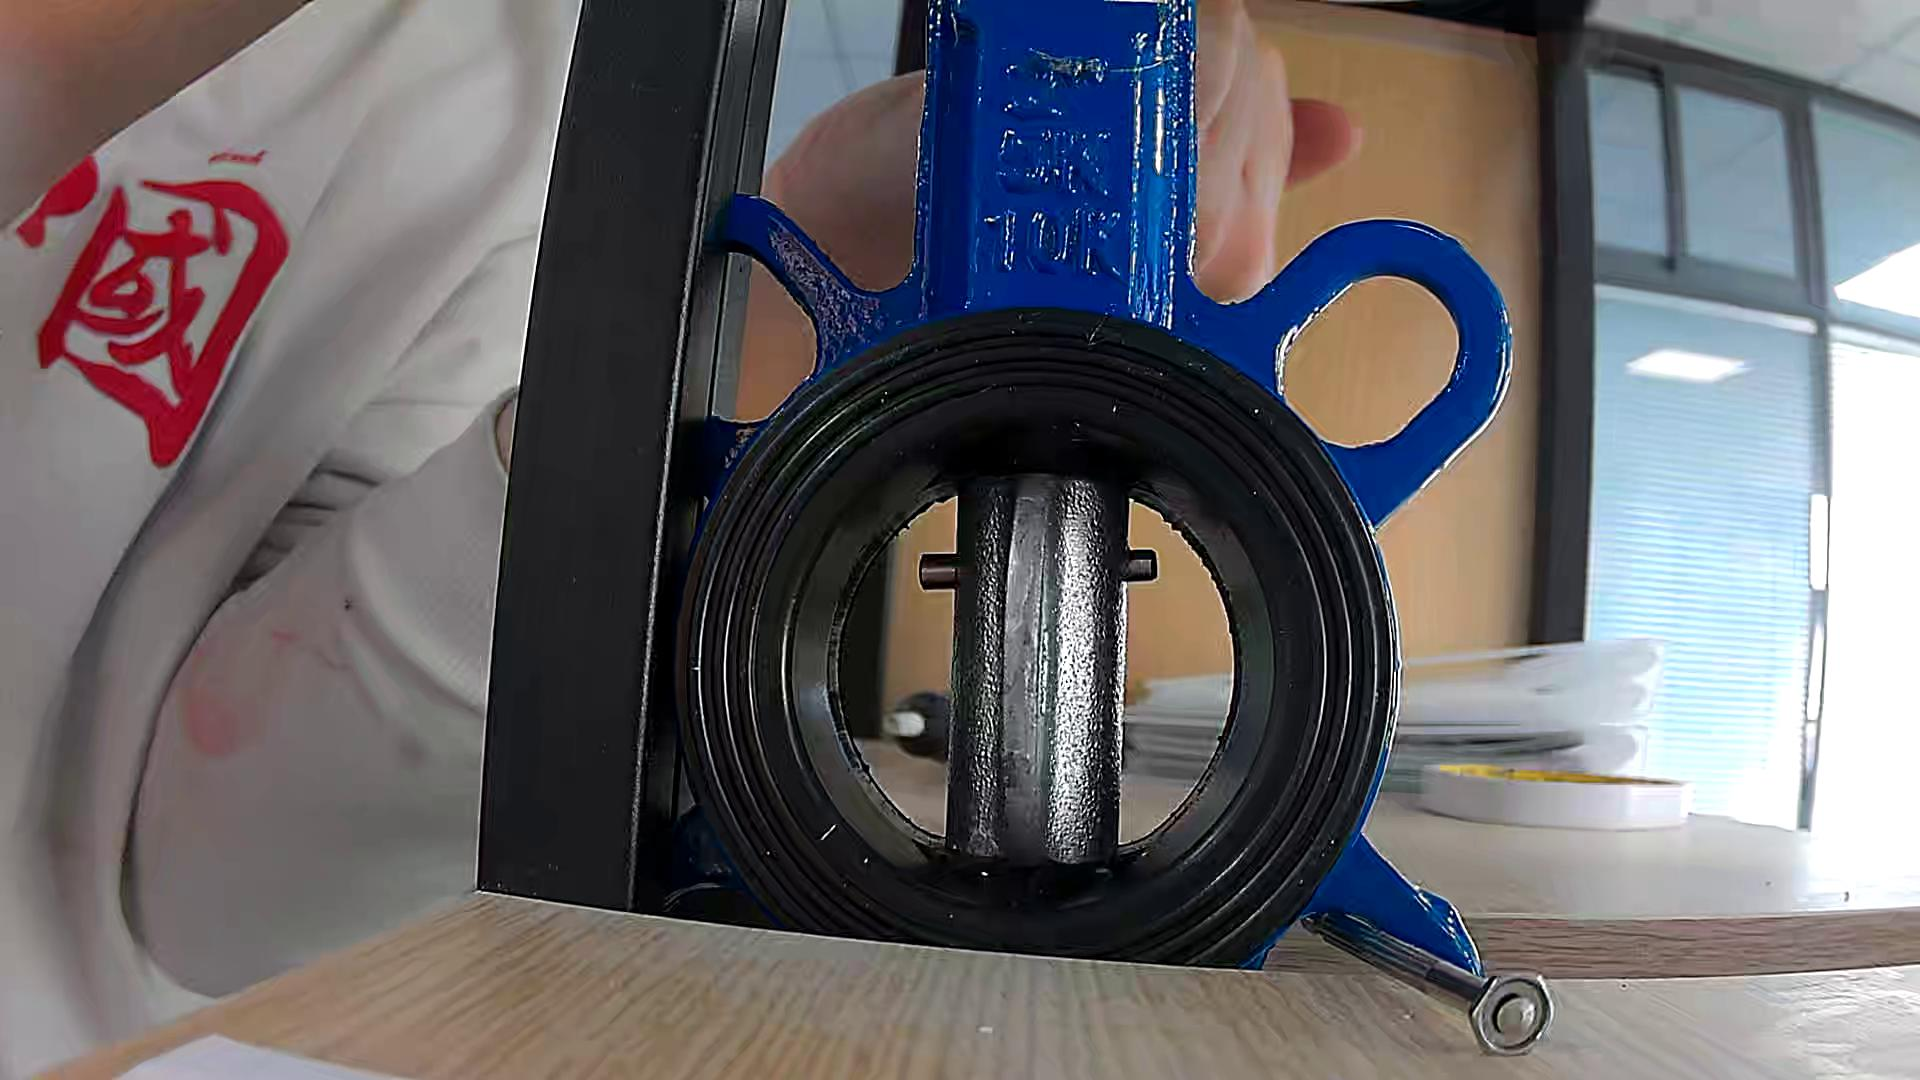valve: (920, 472, 1157, 866)
